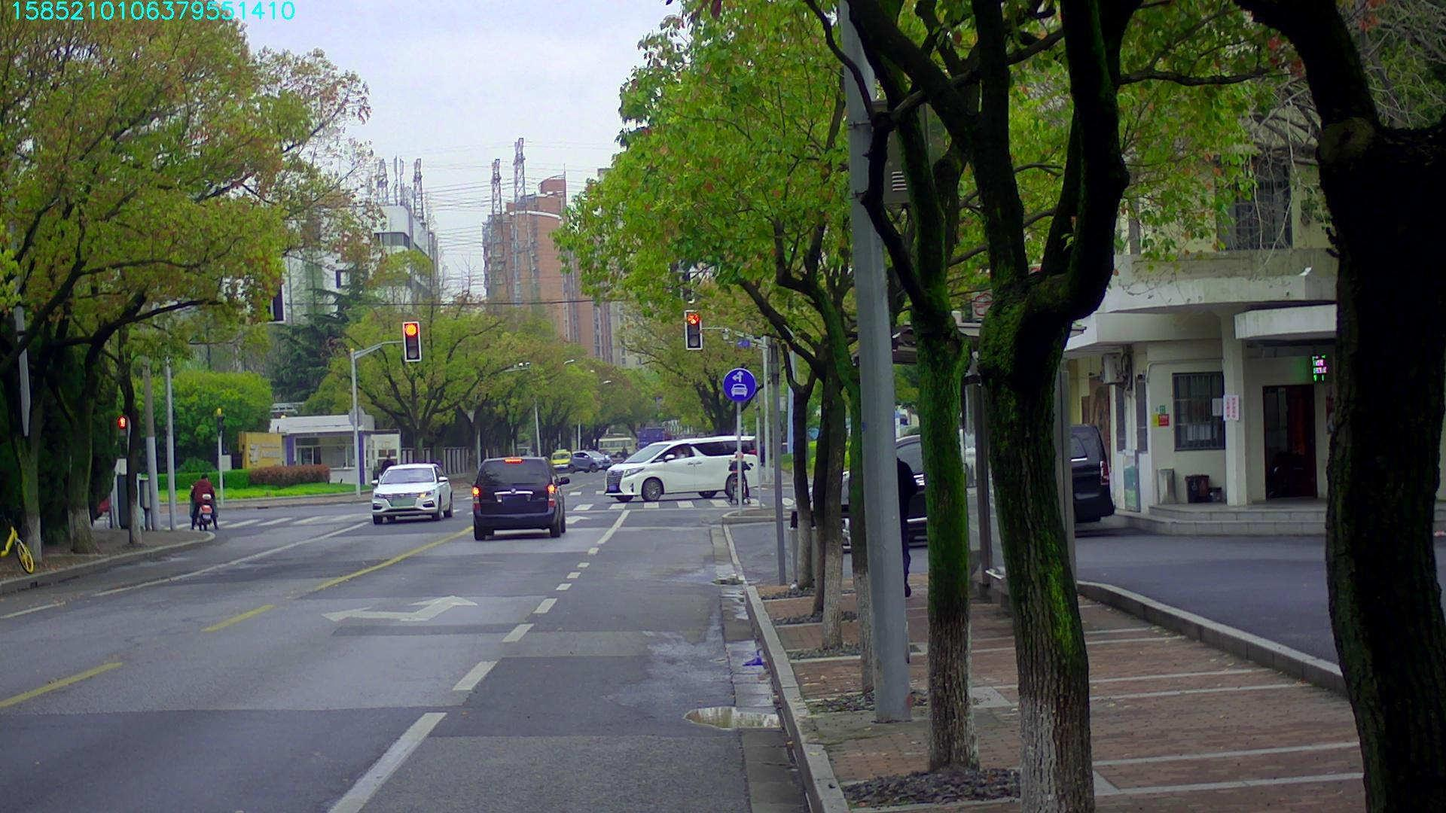red: (404, 321, 419, 360), (685, 310, 700, 349)
